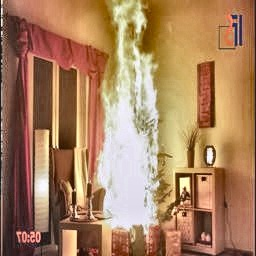fire: (100, 0, 157, 227)
